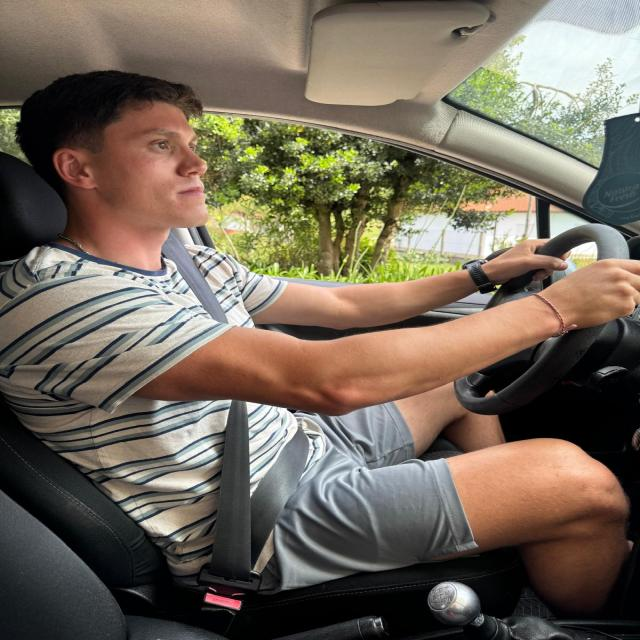Seatbelt: (42, 211, 314, 596)
